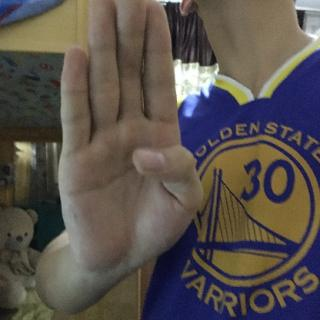KAAF: (53, 0, 211, 283)
